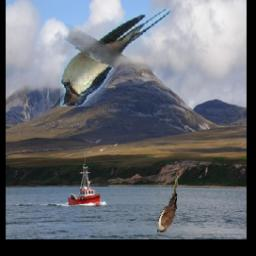Cuckoo: (157, 176, 179, 234)
Swallow: (61, 9, 171, 107)
